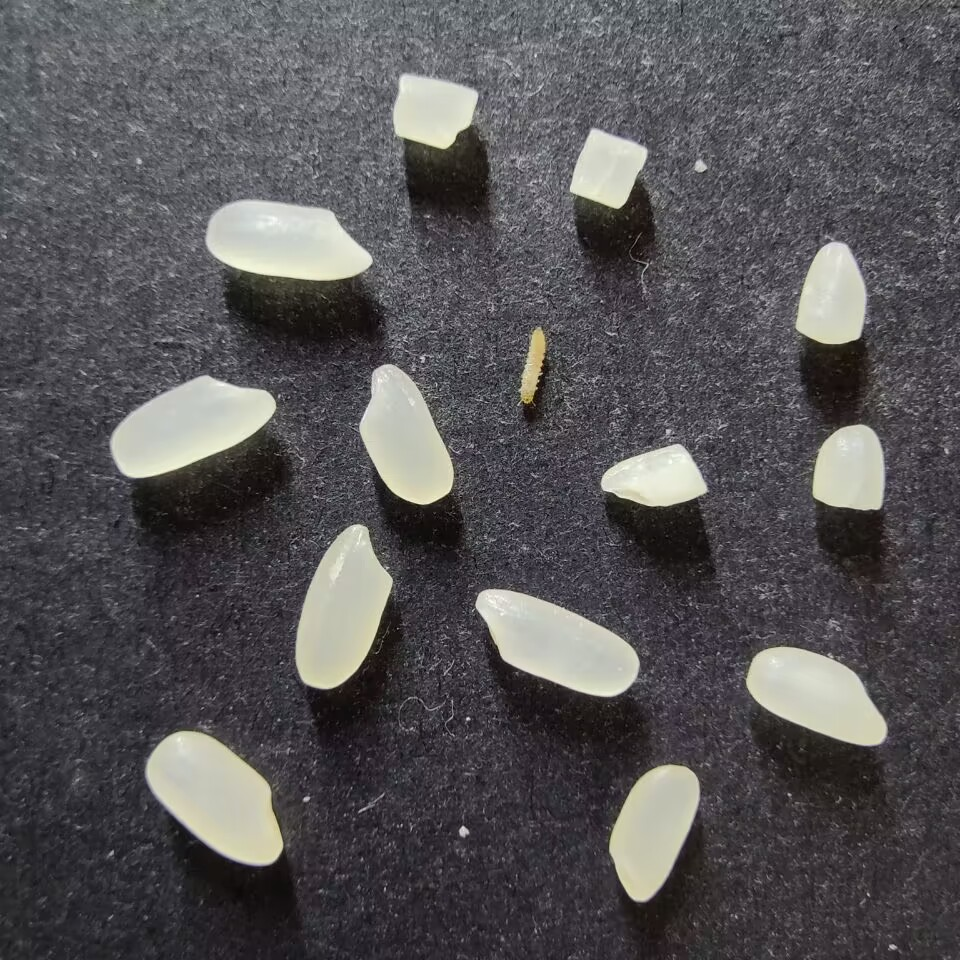broken: (794, 241, 867, 346), (599, 443, 708, 507), (568, 127, 647, 210), (391, 74, 478, 149), (811, 424, 885, 512)
others: (516, 324, 546, 411)
rice: (144, 730, 284, 867), (474, 588, 639, 697), (109, 374, 275, 479), (294, 523, 393, 690), (745, 646, 887, 748), (205, 199, 373, 281), (358, 363, 454, 505), (608, 764, 699, 903)
